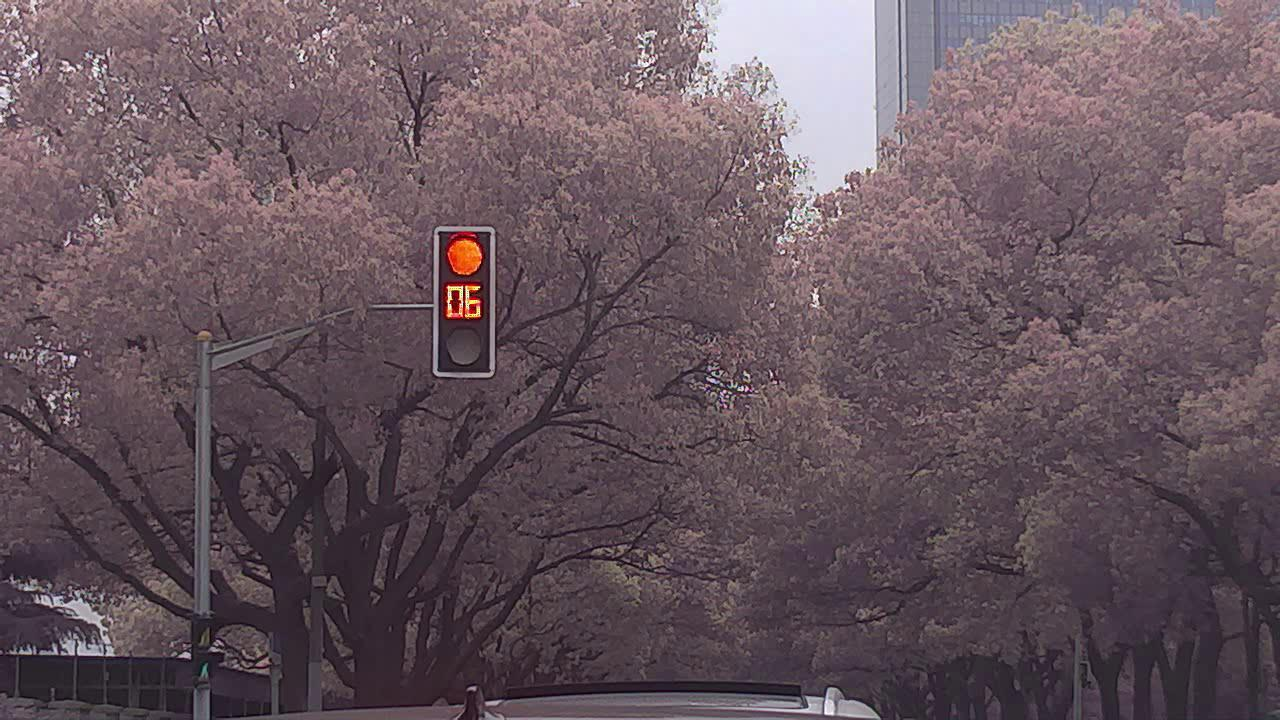traffic_light: (440, 225, 494, 378)
